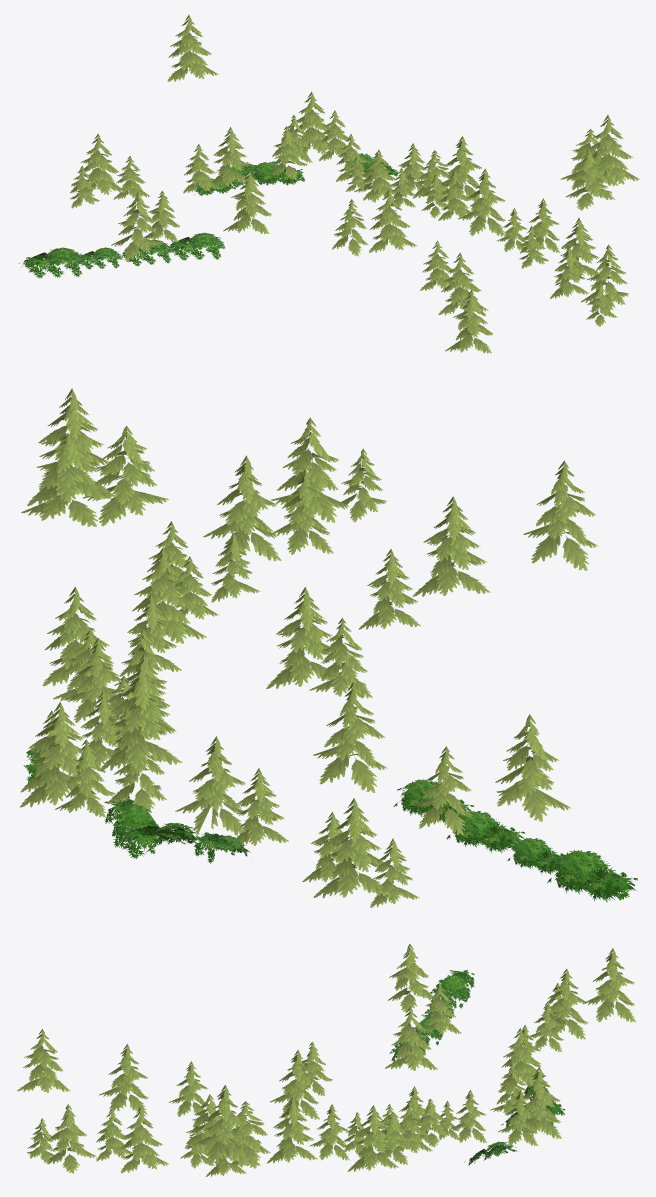
File: zhibei3_1.fbx
3 renders of one model, top to bottom at view 1: azimuth 30°, elevation 25°; view 2: azimuth 150°, elevation 25°; view 3: azimuth 270°, elevation 25°, orthographic. The views are drawn at different scales.
Parts seen in each view (by area): view 1: zhibei3_1; view 2: zhibei3_1; view 3: zhibei3_1.
Boxes of the visible parts, box(x1,y1,x2,y2) form: zhibei3_1: box(18, 15, 639, 353); zhibei3_1: box(20, 388, 637, 907); zhibei3_1: box(17, 944, 635, 1176).
Bounding box in the file's own units: 6206 × 1794 × 6498.
